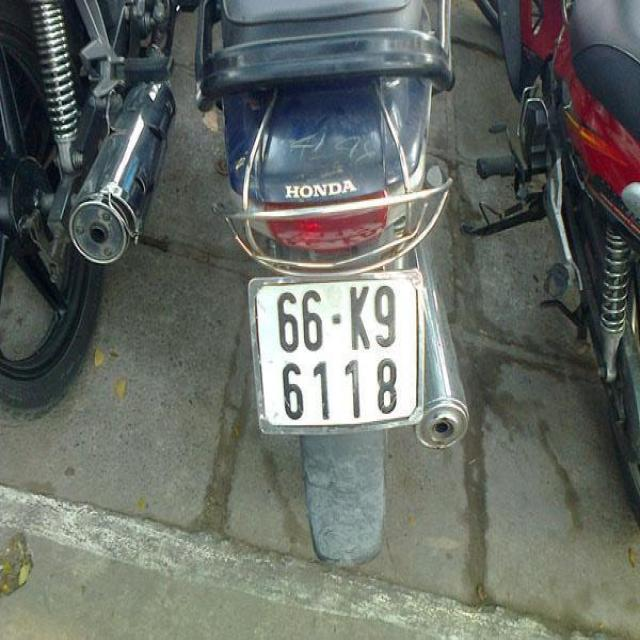License-Plates: (243, 262, 428, 446)
